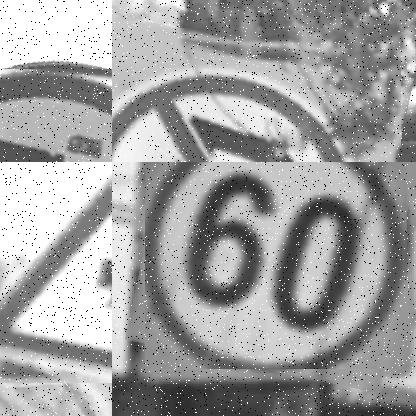No Parking: (112, 28, 401, 162)
Speed Limit -60 kmph-: (147, 162, 415, 376), (145, 162, 407, 368)
Speed Limit -70 kmph-: (0, 70, 112, 162)
